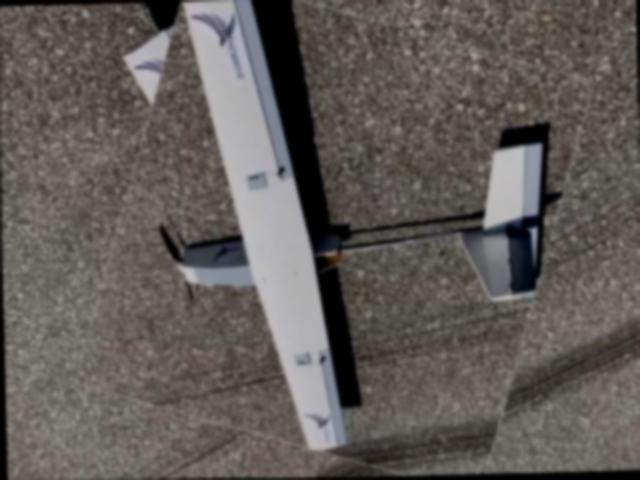insansiz-hava-araci: (93, 0, 577, 478)
